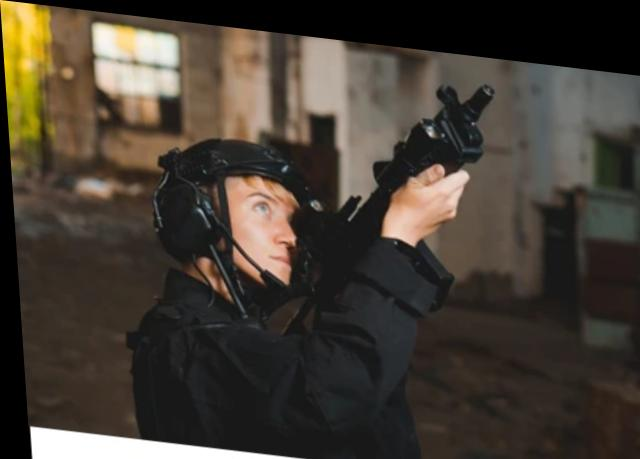other: (138, 131, 420, 447)
